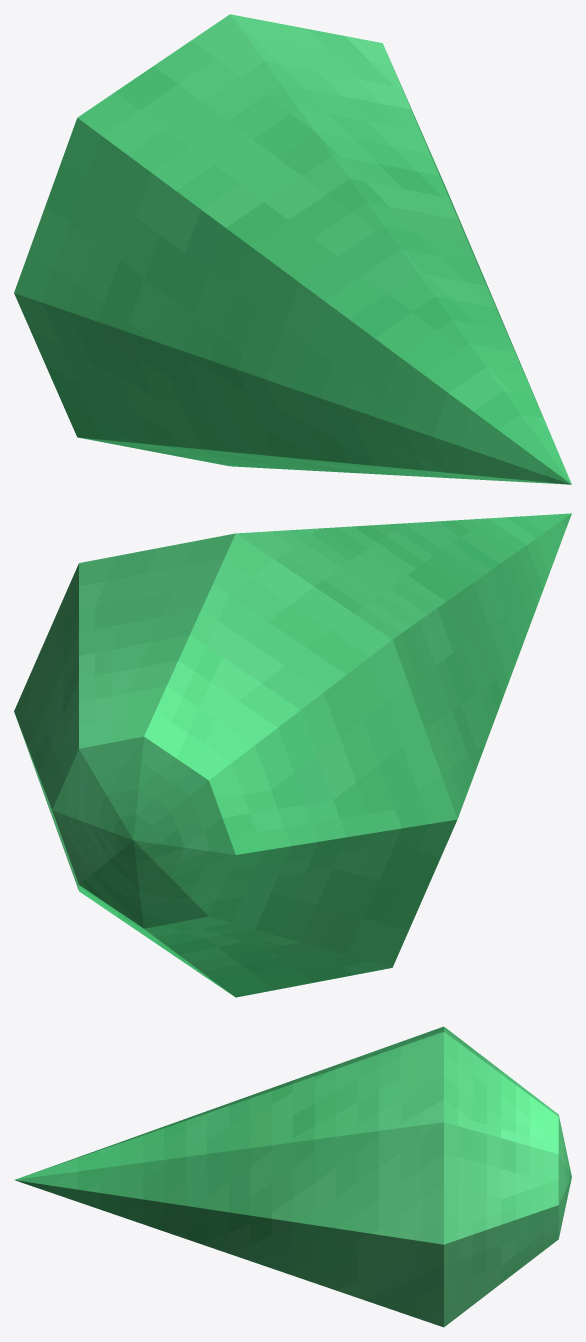
The model's file is items__spitz.glb.
3 views of the same model, one above another, from view 1: azimuth 30°, elevation 25°; view 2: azimuth 150°, elevation 25°; view 3: azimuth 270°, elevation 25° (orthographic). The views are drawn at different scales.
Visible parts, largest first — view 1: spitzball2; view 2: spitzball2; view 3: spitzball2.
Boxes of the visible parts, x1,y1,x2,y2 form: spitzball2: (14, 14, 571, 484); spitzball2: (14, 513, 571, 997); spitzball2: (14, 1026, 571, 1327).
Size of the model in its own units: 1.85 by 1.85 by 3.22.
1 material, 1 textured.
